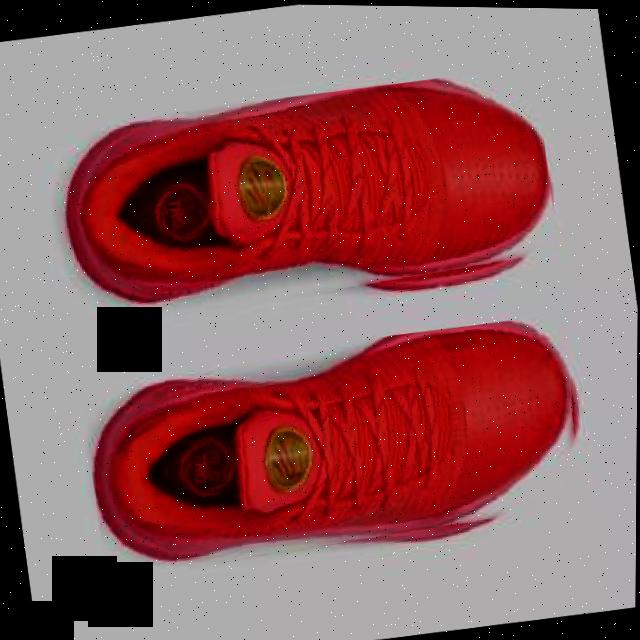shoe: (79, 306, 596, 584), (50, 59, 563, 339)
